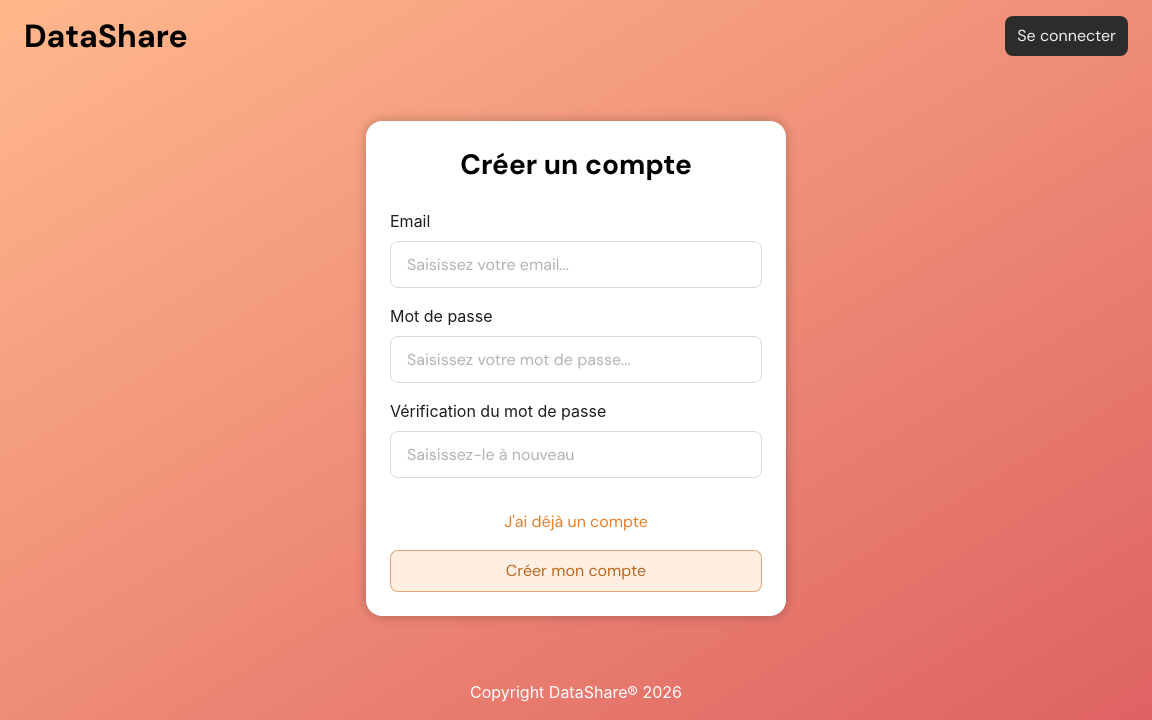
it: RegisterView › affiche une erreur et n'appelle pas register si la vérification diffère du mot de passe
The image size is (1152, 720).
Type "user@example.com" into the field with id "register-email".
click(576, 264); type("user@example.com")  # box left=390, top=240, right=762, bottom=288
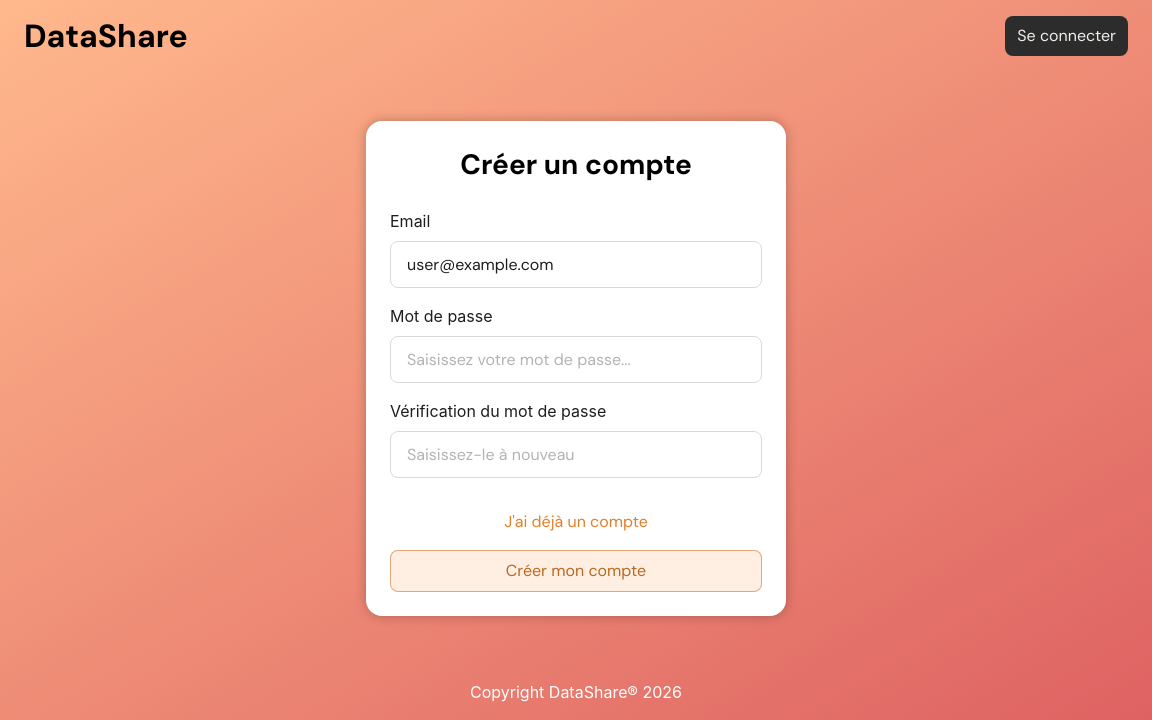
Type "motdepasse123" into the password field with id "register-password".
click(576, 359); type("motdepasse123")  # box left=390, top=336, right=762, bottom=382
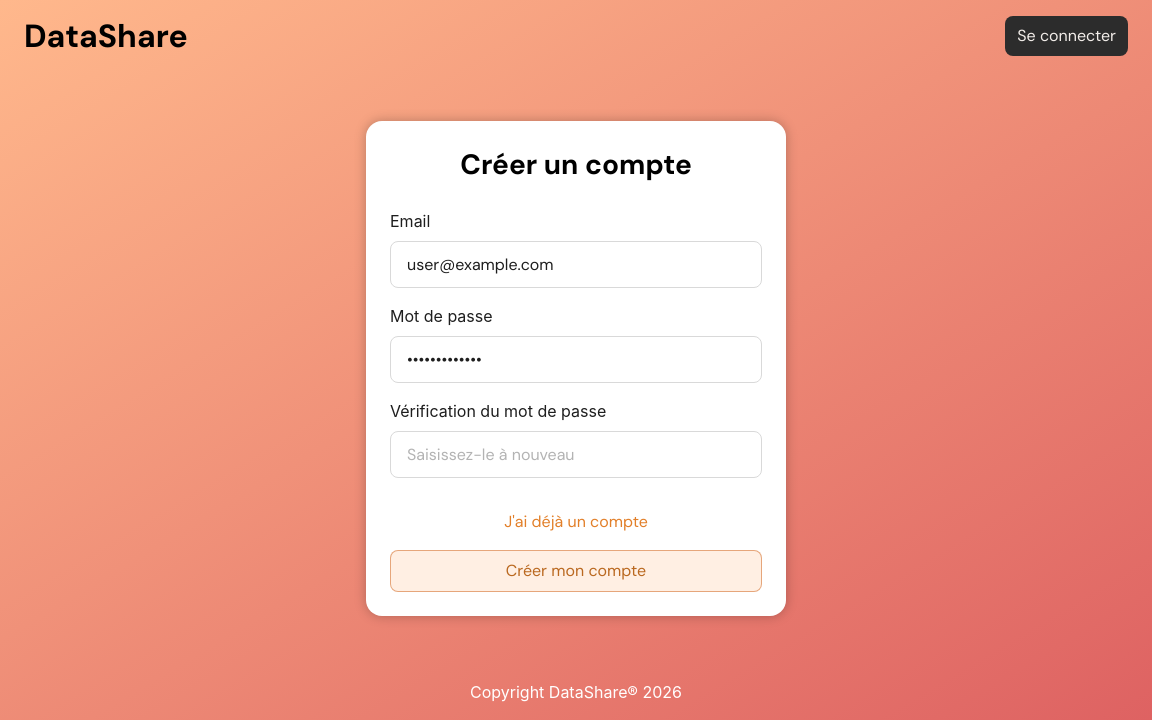
Type "autrechose456" into the password field with id "register-password-confirmation".
click(576, 454); type("autrechose456")  # box left=390, top=430, right=762, bottom=478
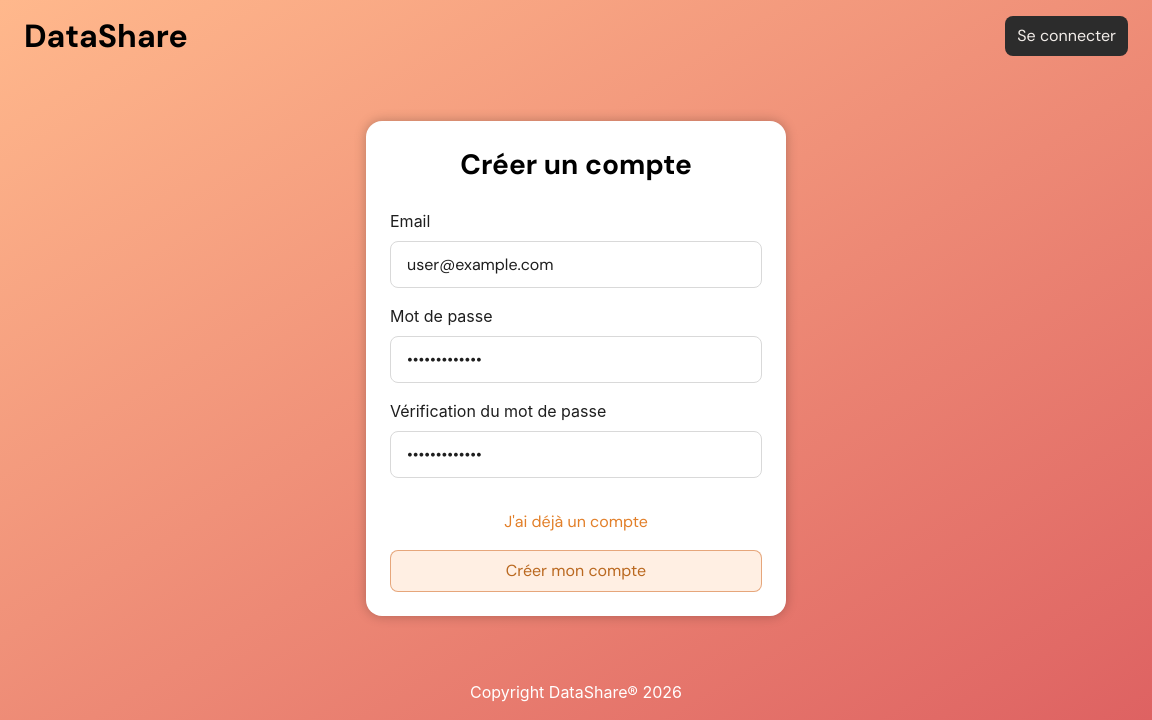
Submit the form, box left=390, top=208, right=762, bottom=592
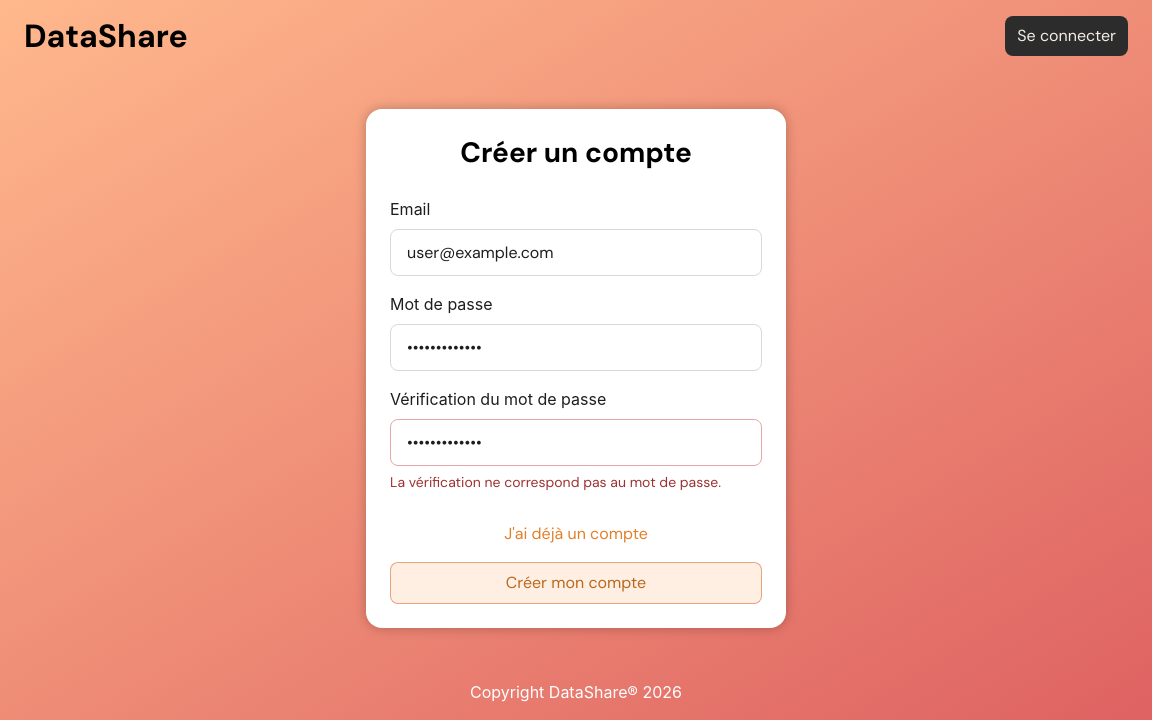
Check: the text "La vérification ne correspond pas au mot de passe." is shown, box left=390, top=474, right=762, bottom=490
Check: the text with id "register-password-confirmation-error" reads "La vérification ne correspond pas au mot de passe.", box left=390, top=472, right=721, bottom=490
